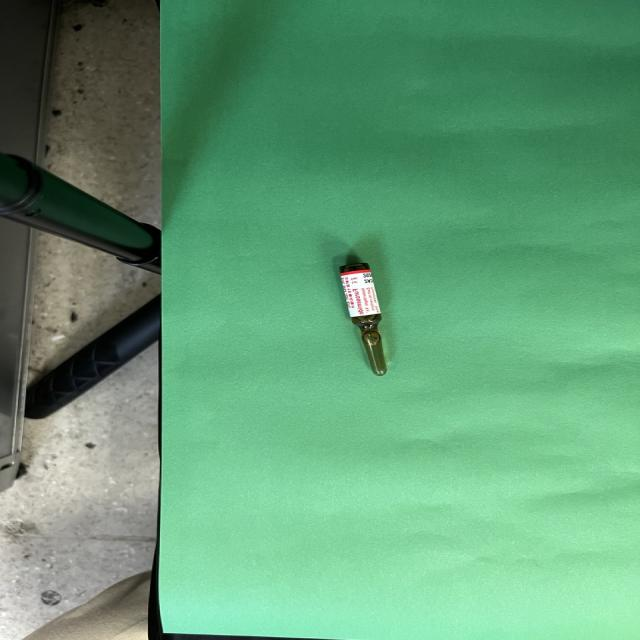Ampoules: (339, 262, 387, 376)
